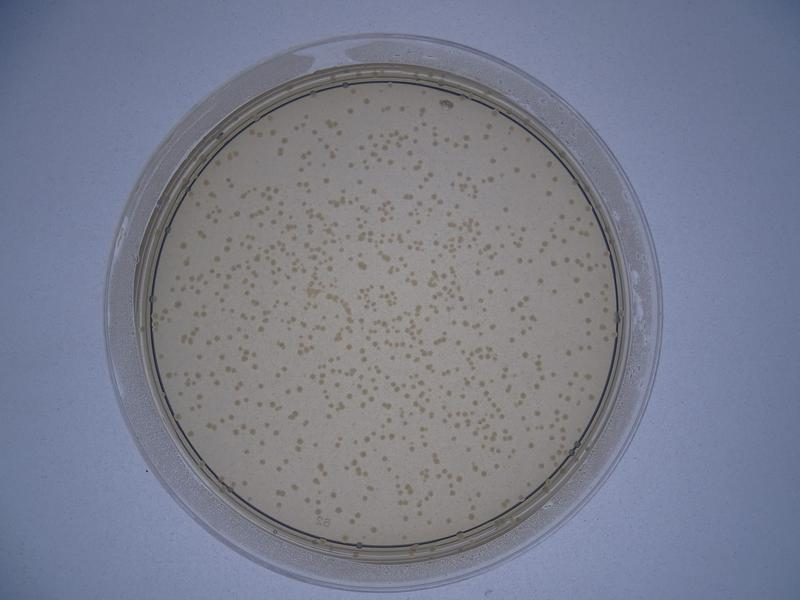colony: (237, 445, 256, 459), (291, 381, 306, 397), (485, 153, 501, 168), (191, 347, 206, 363), (514, 251, 528, 268), (524, 437, 537, 454), (510, 161, 525, 175), (560, 345, 575, 359), (504, 332, 518, 347), (308, 437, 322, 452), (581, 370, 596, 384), (478, 468, 492, 482), (500, 202, 515, 215), (581, 312, 594, 327), (369, 183, 384, 196), (209, 251, 224, 264), (529, 405, 544, 418), (366, 521, 379, 536), (278, 132, 293, 145), (341, 104, 357, 116), (546, 257, 562, 269), (319, 173, 335, 185), (176, 238, 189, 252), (482, 284, 495, 298), (327, 487, 341, 500), (519, 345, 532, 359), (547, 285, 560, 298), (544, 185, 556, 199), (353, 173, 365, 187), (378, 452, 392, 464), (191, 391, 206, 402), (272, 462, 284, 475), (249, 360, 262, 372), (211, 377, 222, 389), (255, 381, 267, 392), (529, 172, 539, 181)
